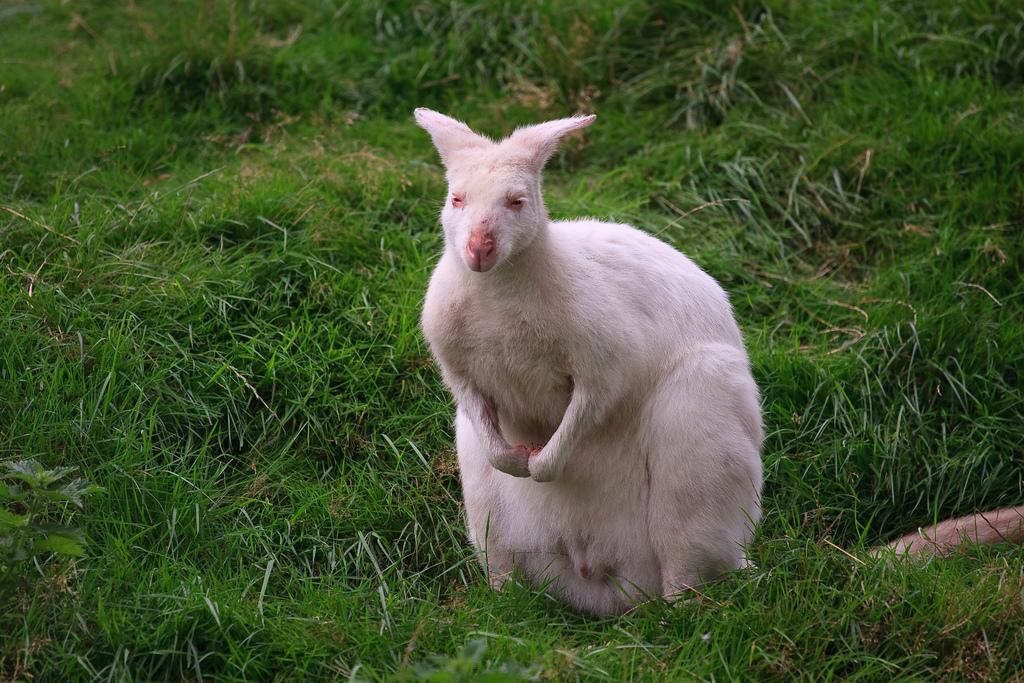kangaroo: (410, 101, 786, 638)
